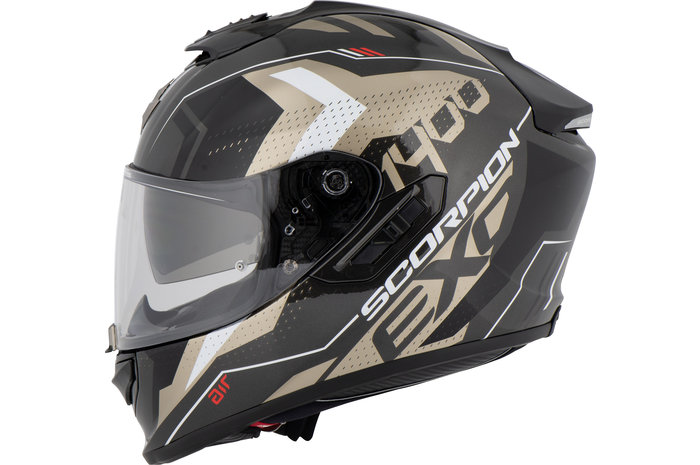with_helmet: (104, 2, 601, 464)
